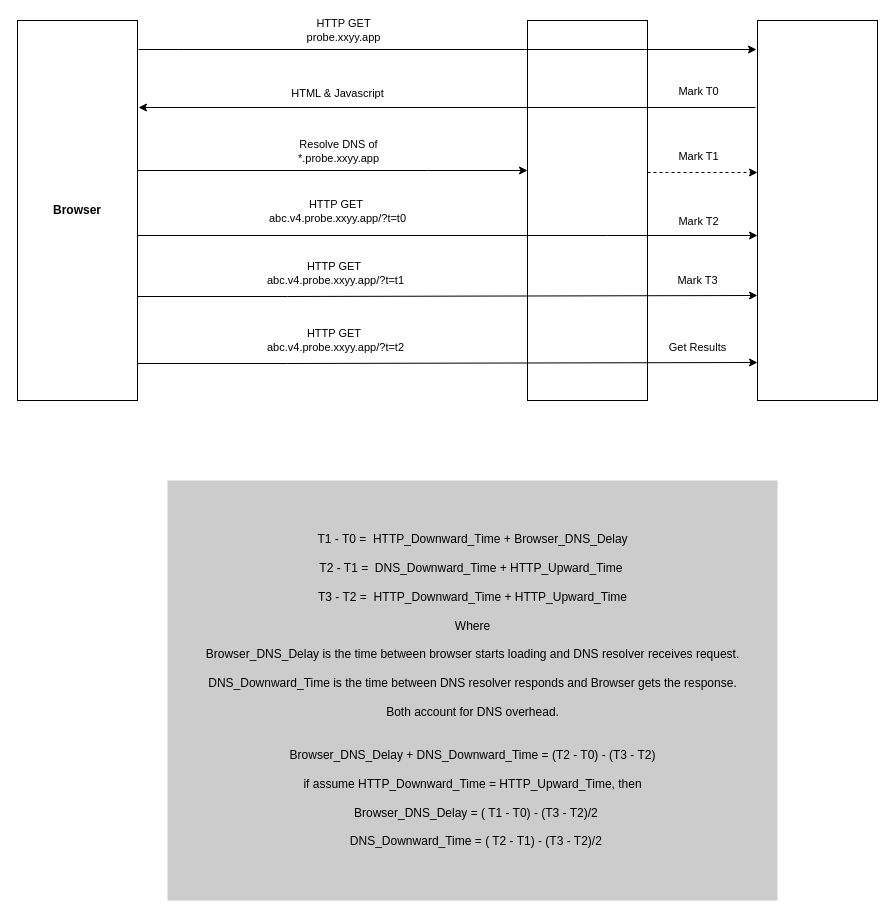
This 895x918 diagram has some shape labels left out. Here are the shapes that lost their labels. From the top down, the box of each, then its label:
(526, 20, 648, 400): Resolver
(756, 20, 878, 400): Frontend
